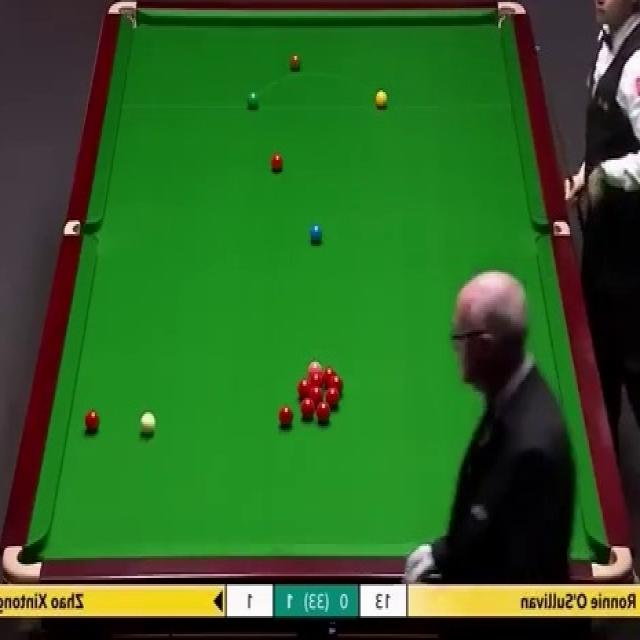blue-ball: (309, 222, 323, 246)
brown-ball: (288, 53, 302, 73)
green-ball: (247, 89, 260, 110)
pink-ball: (308, 360, 321, 377)
red-ball: (85, 408, 100, 434), (308, 384, 323, 406), (270, 151, 284, 174), (279, 404, 293, 426), (317, 402, 330, 425), (301, 398, 315, 419), (329, 374, 342, 394), (327, 387, 339, 408), (296, 379, 309, 398), (323, 367, 335, 387), (310, 375, 323, 386)
white-ball: (140, 411, 158, 440)
yellow-ball: (376, 90, 388, 108)
